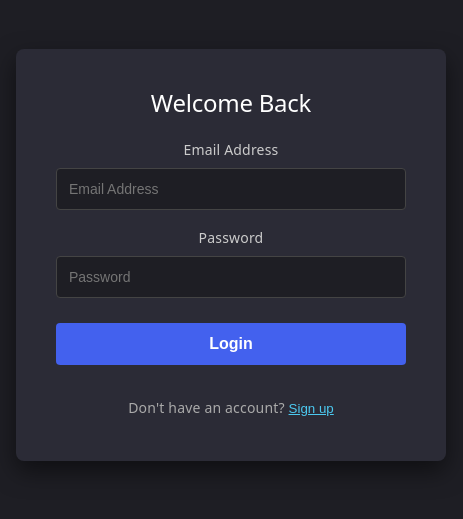
Test: Login Component › handles supabase authentication error
In the field labelled "Email Address": (231, 189) [56, 168, 406, 210], type "test@test.com"
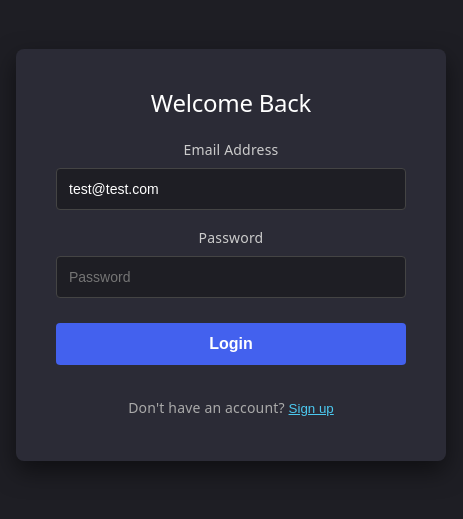
In the password field labelled "Password": (231, 277) [56, 256, 406, 298], type "password"
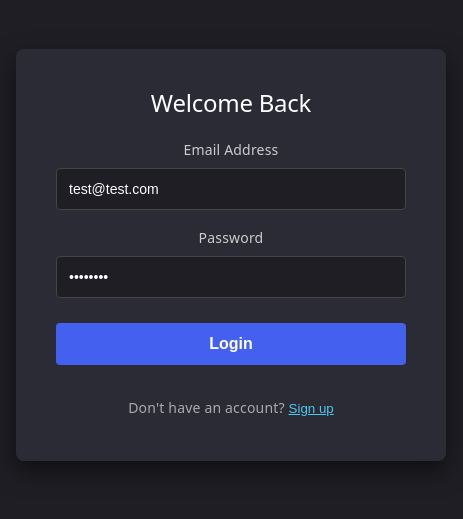
Click the button "Login": (231, 344) [56, 323, 406, 365]
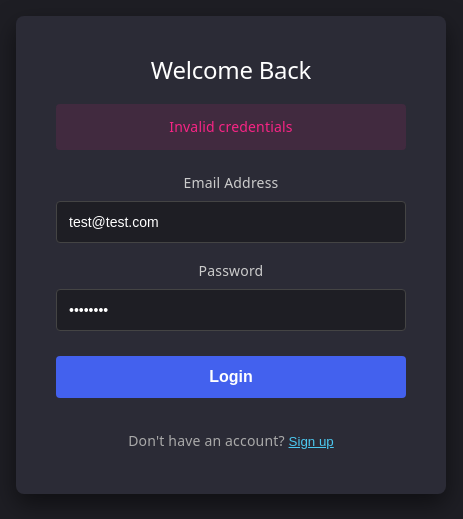
Check: the text "Invalid credentials" is shown, box [56, 104, 406, 150]
